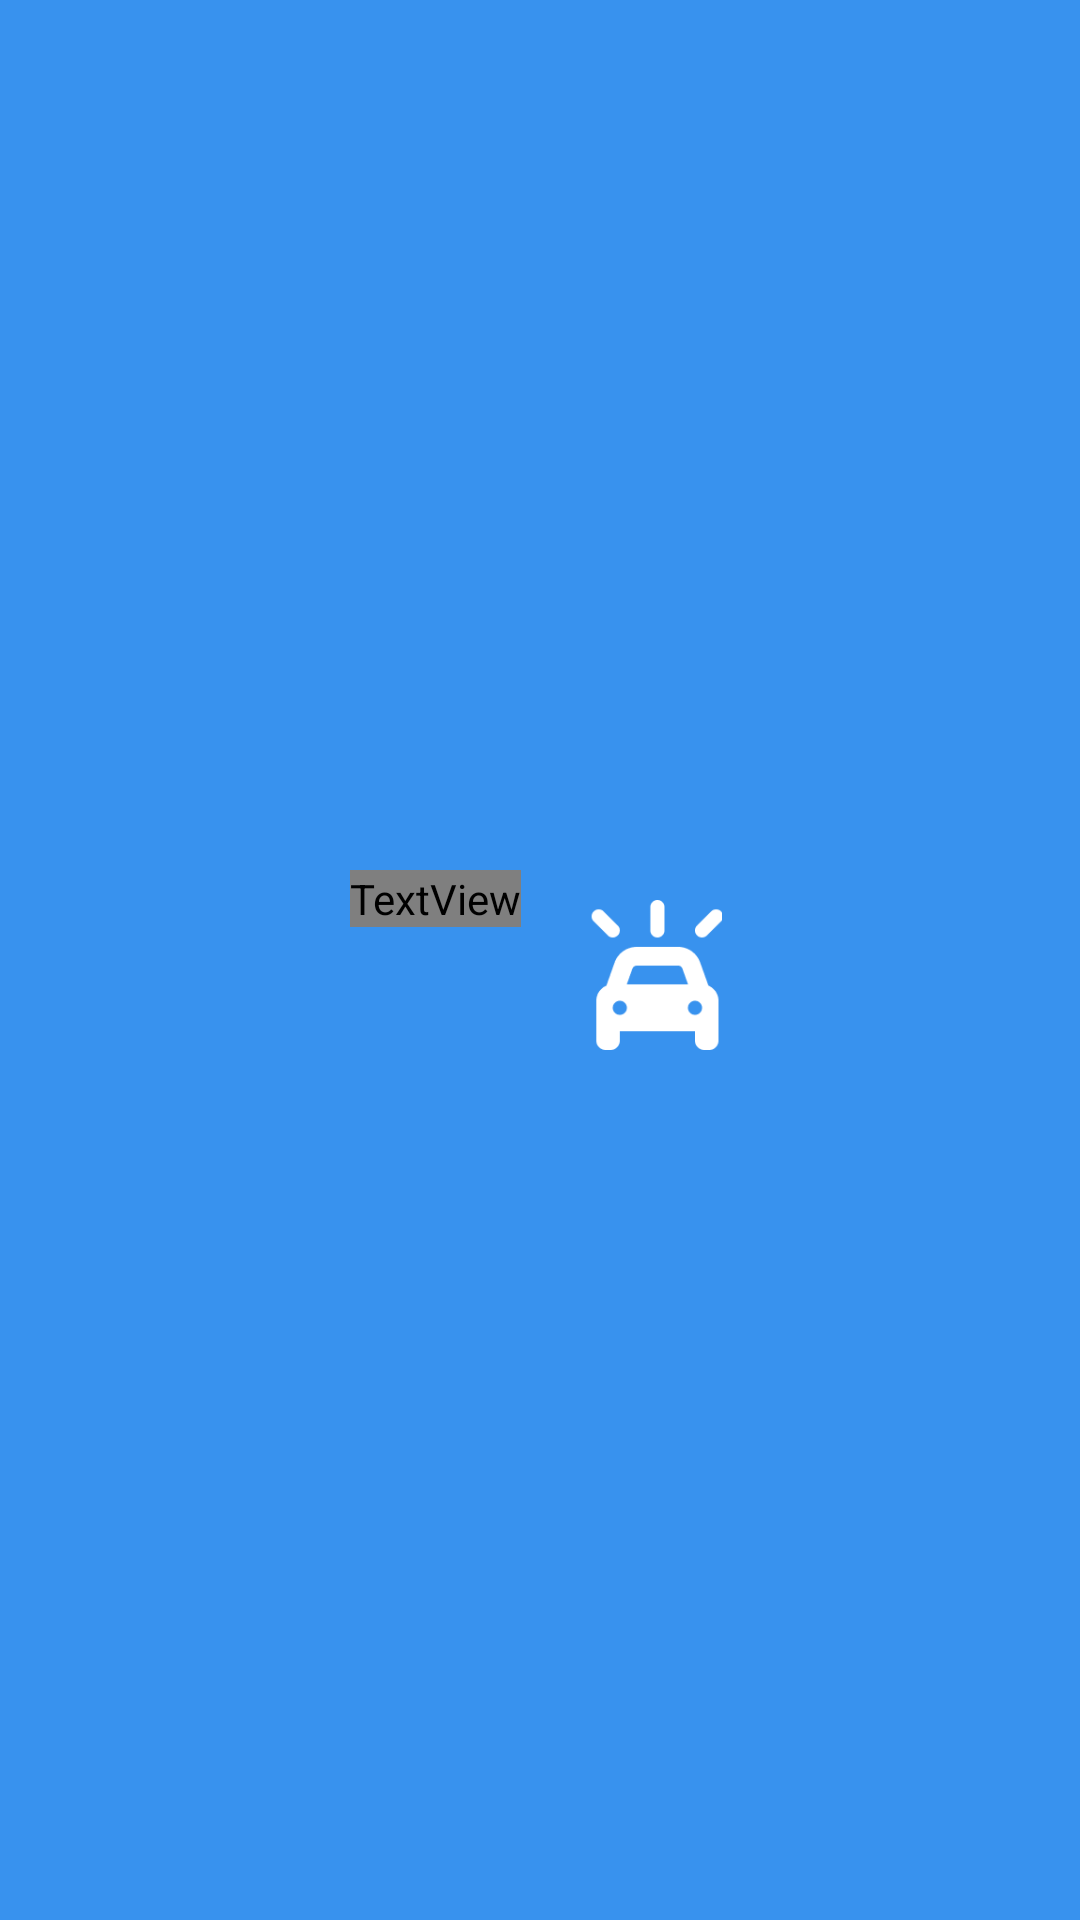

Locate icon controls on the screen. Image size 1080px×1920px, boxes as (x1, y1, x2, y2).
car: (591, 900, 722, 1050)
